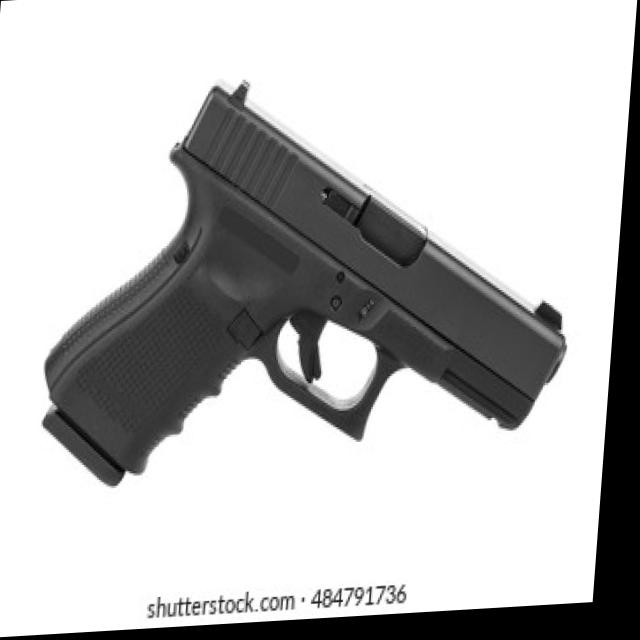handgun: (32, 60, 596, 502)
